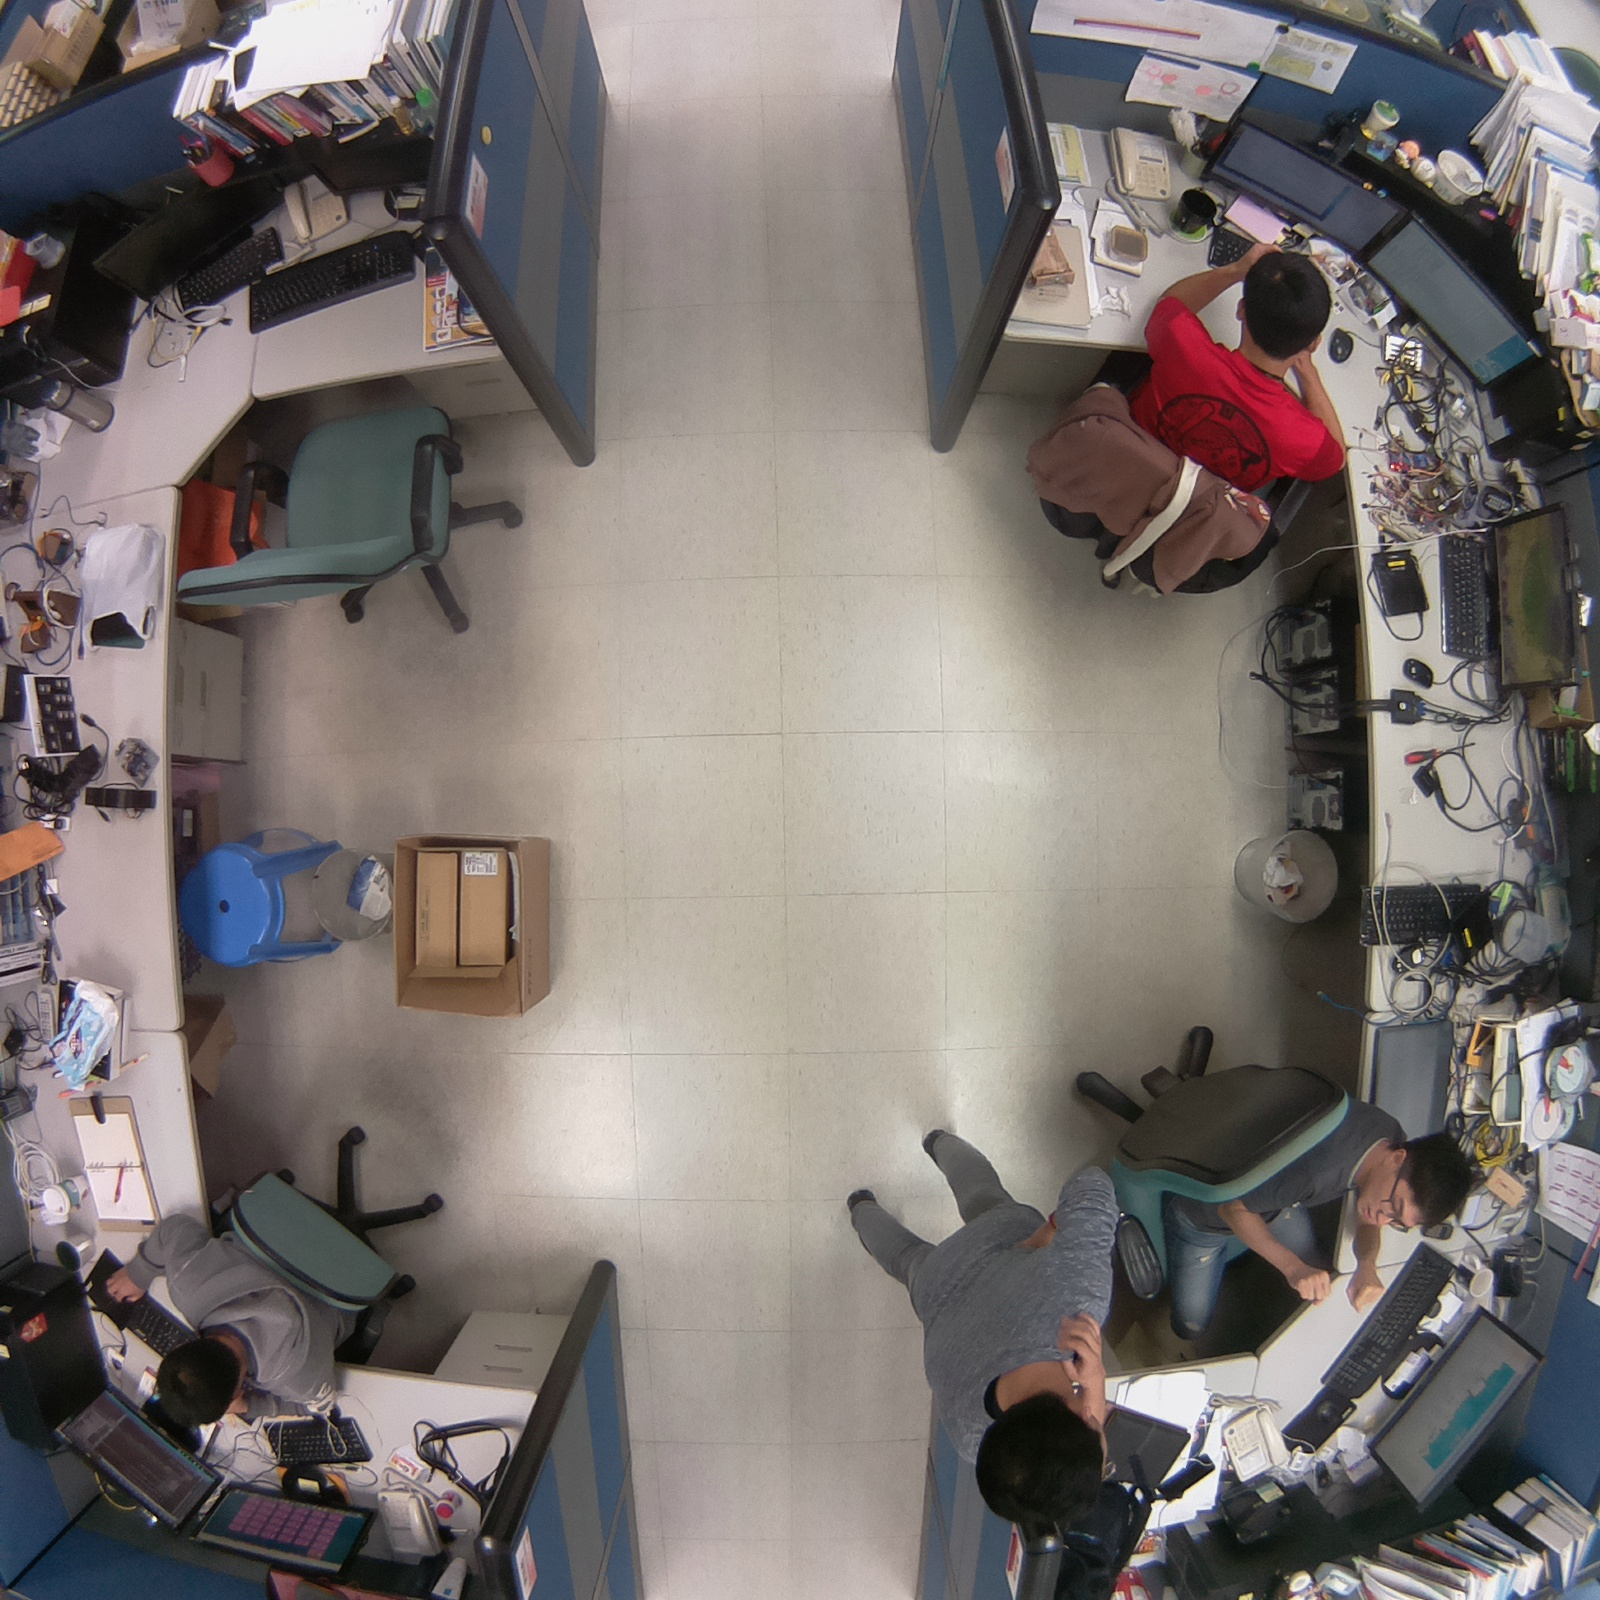chair: (168, 373, 542, 650)
head: (972, 1386, 1119, 1535), (1356, 1125, 1476, 1251), (1233, 243, 1339, 367), (146, 1333, 252, 1435)
sitting: (1058, 1014, 1481, 1352), (1009, 232, 1370, 619), (89, 1099, 470, 1429)
standing: (826, 1109, 1137, 1537)
